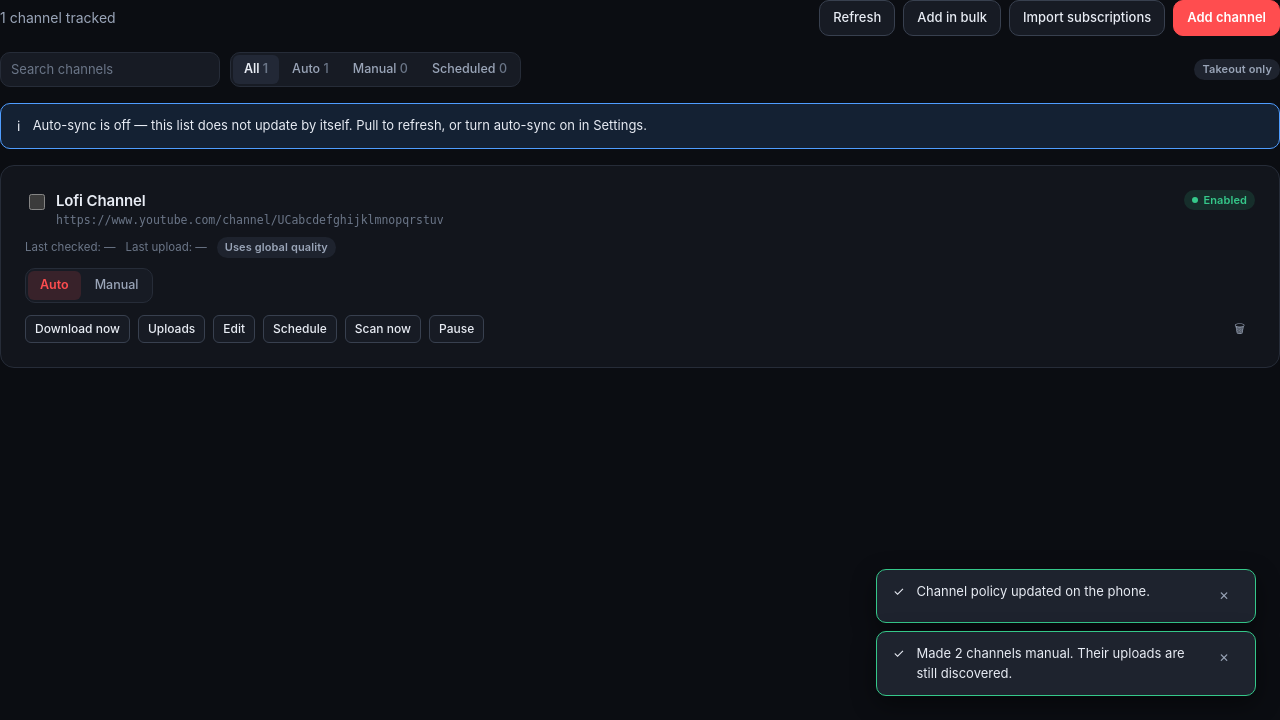
it: channels screen — subscriptions import › defaults to Takeout and never offers the feed option when cookies are absent
This screenshot has width=1280, height=720.
Expected: the heading "Lofi Channel" is shown, [56, 191, 146, 210]
Click the button "Import subscriptions": (1087, 18) [1009, 0, 1165, 36]
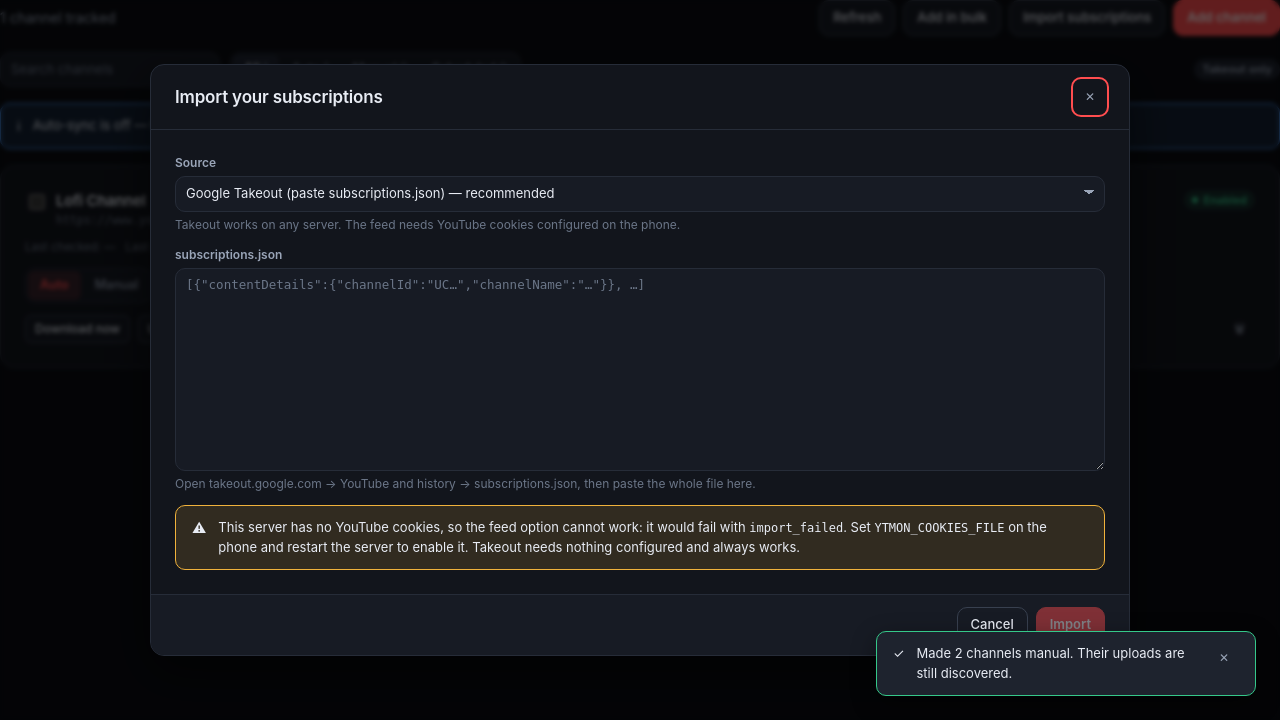
Expected: the dropdown labelled "Source" shows "Google Takeout (paste subscriptions.json) — recommended", [175, 176, 1105, 212]
Expected: the text "YTMON_COOKIES_FILE" is shown, [874, 521, 1004, 535]
